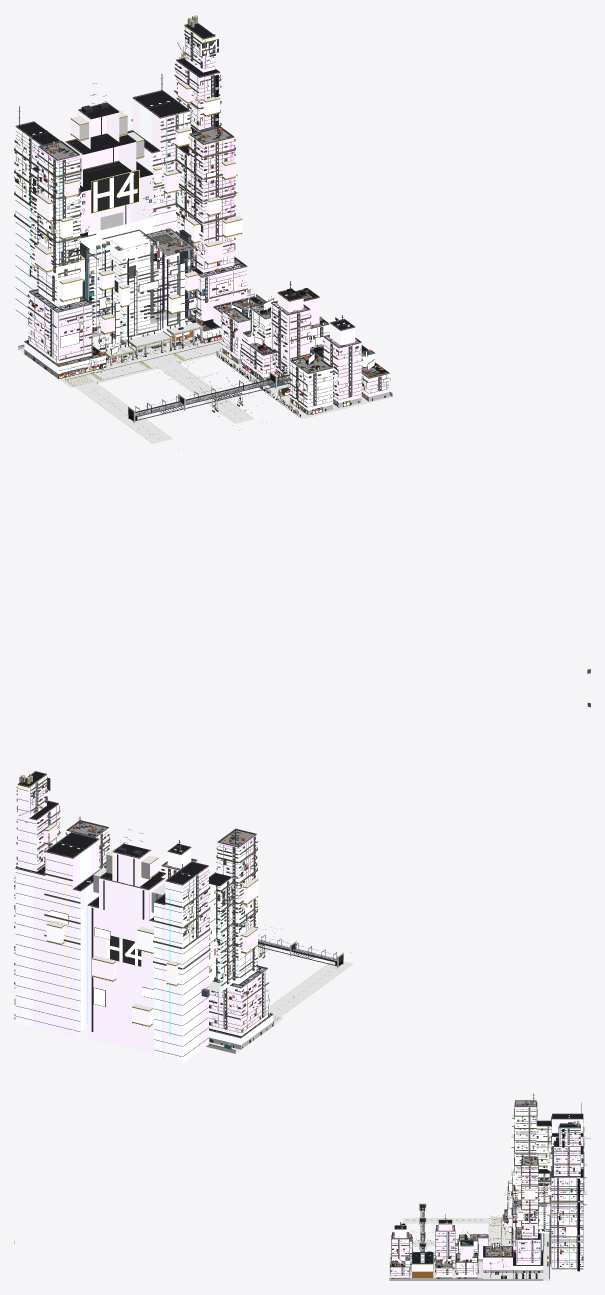
Rendered from world-high-mega.glb.
3 renders of one model, top to bottom at view 1: azimuth 30°, elevation 25°; view 2: azimuth 150°, elevation 25°; view 3: azimuth 270°, elevation 25°, orthographic. The views are drawn at different scales.
Parts seen in each view (by area): view 1: mega_facade, mega_trim, mega_trim_detail, mega_concrete, mega_roof, mega_asphalt, mega_glow, mega_sidewalk, mega_castconcrete, mega_billboard, mega_metal, mega_plaster (+3 smaller); view 2: mega_facade, mega_trim, mega_trim_detail, mega_roof, mega_concrete, mega_asphalt, mega_glow, mega_metal, mega_plaster, mega_billboard, mega_castconcrete; view 3: mega_facade, mega_trim, mega_trim_detail, mega_concrete, mega_roof, mega_castconcrete, mega_asphalt, mega_glow, mega_sidewalk, mega_glow_detail, mega_metal, mega_metal_detail (+2 smaller).
Boxes of the visible parts, x1,y1,x2,y2 form: mega_facade: (15, 26, 389, 410); mega_trim: (14, 23, 392, 421); mega_trim_detail: (15, 27, 388, 430); mega_concrete: (18, 56, 392, 422); mega_roof: (17, 23, 387, 372); mega_asphalt: (66, 342, 254, 443); mega_glow: (17, 14, 389, 414); mega_sidewalk: (19, 293, 391, 419); mega_castconcrete: (31, 128, 386, 376); mega_billboard: (43, 171, 374, 412); mega_metal: (17, 16, 385, 414); mega_plaster: (15, 122, 389, 396); mega_facade: (15, 775, 273, 1063); mega_trim: (14, 771, 343, 1050); mega_trim_detail: (14, 777, 314, 1056); mega_roof: (17, 772, 271, 1036); mega_concrete: (39, 805, 343, 1053); mega_asphalt: (258, 944, 353, 1021); mega_glow: (16, 773, 267, 1032); mega_metal: (19, 777, 339, 1031); mega_plaster: (44, 850, 261, 1032); mega_billboard: (50, 902, 260, 1006); mega_castconcrete: (69, 821, 265, 986); mega_facade: (390, 1107, 587, 1277); mega_trim: (389, 1100, 586, 1278); mega_trim_detail: (390, 1101, 583, 1278); mega_concrete: (389, 1115, 587, 1280); mega_roof: (390, 1101, 583, 1267); mega_castconcrete: (391, 1101, 542, 1267); mega_asphalt: (403, 1218, 501, 1246); mega_glow: (392, 1092, 582, 1274); mega_sidewalk: (389, 1216, 549, 1280); mega_glow_detail: (393, 1111, 585, 1274); mega_metal: (392, 1093, 590, 1278); mega_metal_detail: (390, 1095, 573, 1278).
Bounding box in the file's own units: 226 × 248 × 862.
